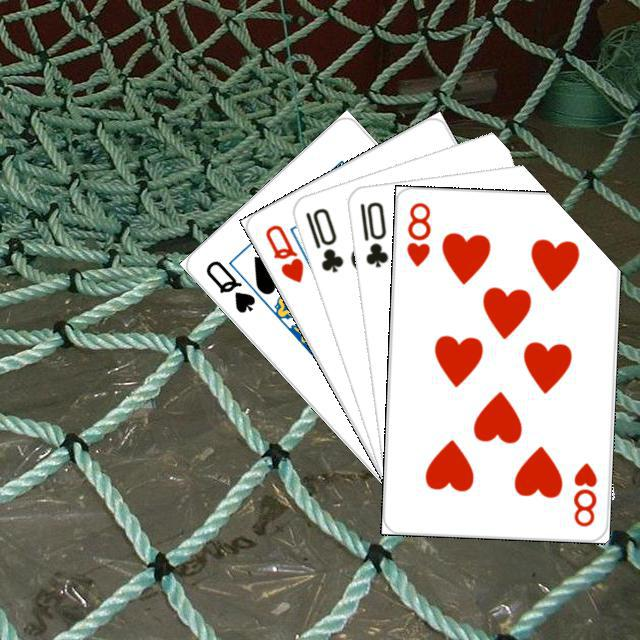10c: (300, 203, 345, 274), (355, 196, 390, 269)
8h: (402, 197, 433, 268), (568, 458, 599, 528)
Qh: (260, 219, 306, 285)
Qs: (200, 255, 257, 315)
